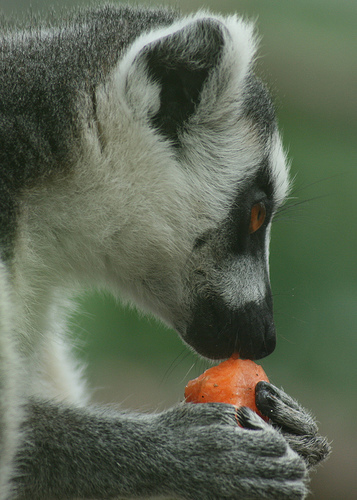cat: (0, 0, 334, 497)
